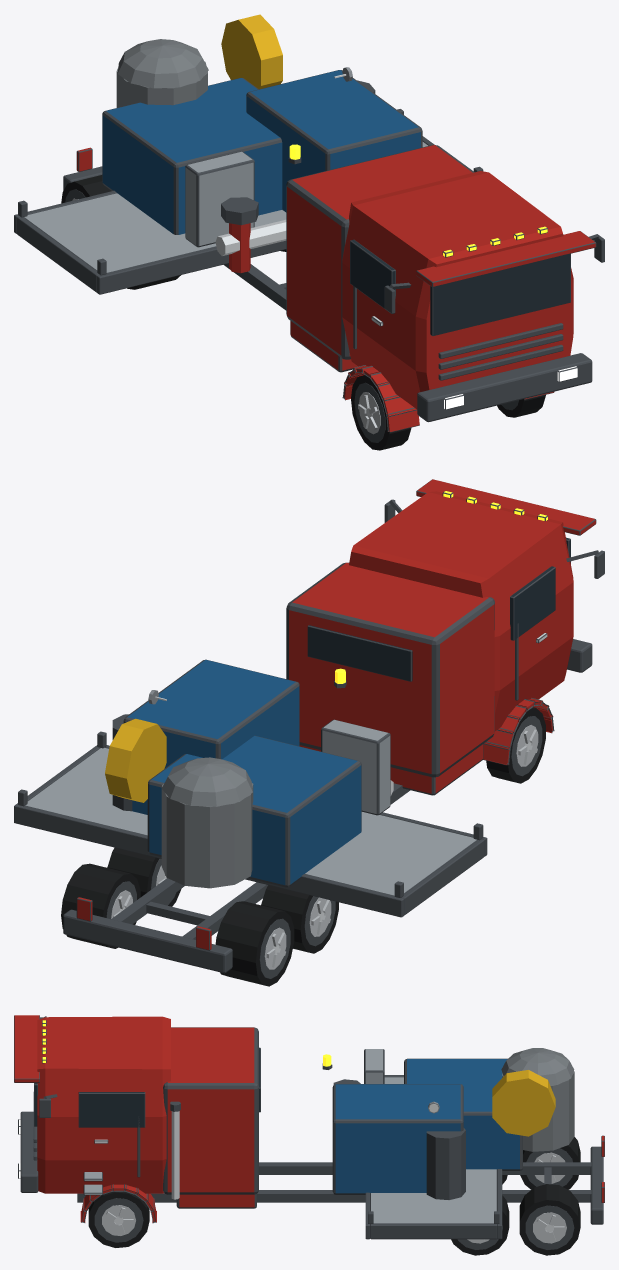
Rendered from veh_cementing_truck.glb.
3 renders of one model, top to bottom at view 1: azimuth 30°, elevation 25°; view 2: azimuth 150°, elevation 25°; view 3: azimuth 270°, elevation 25°, orthographic. The views are drawn at different scales.
Visible parts, largest first — view 1: veh_cementing_truck; view 2: veh_cementing_truck; view 3: veh_cementing_truck.
Boxes of the visible parts, x1,y1,x2,y2 form: veh_cementing_truck: (14,14,604,450); veh_cementing_truck: (14,479,604,986); veh_cementing_truck: (14,1015,604,1255).
Bounding box in the file's own units: 6 × 3.3 × 9.94.
